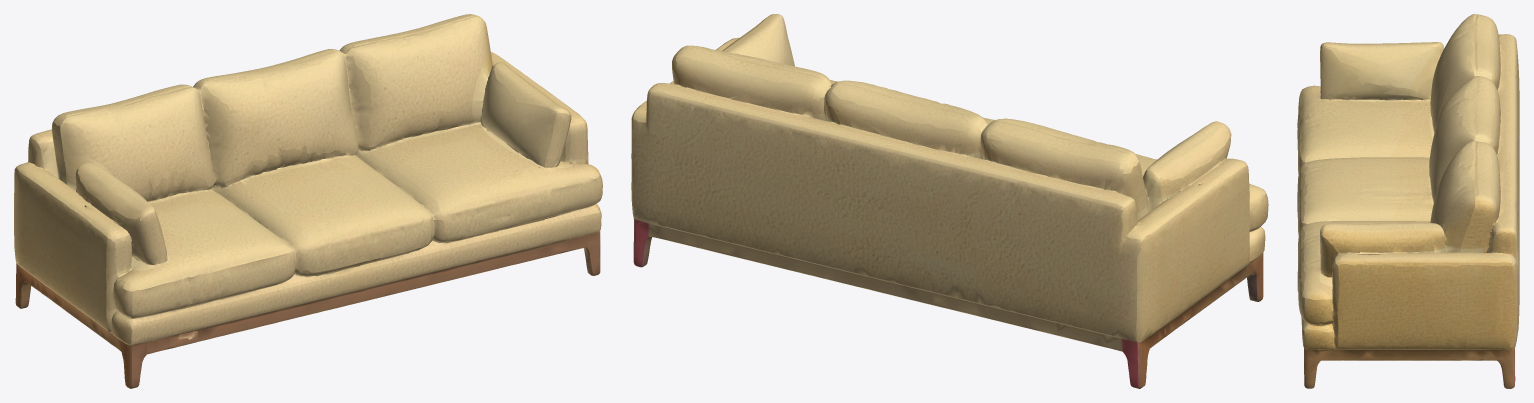
The model's file is L_SOFA_3.cyberpunk.glb.
3 renders of one model, left to right at view 1: azimuth 30°, elevation 25°; view 2: azimuth 150°, elevation 25°; view 3: azimuth 270°, elevation 25°, orthographic. The views are drawn at different scales.
Parts seen in each view (by area): view 1: geometry_0; view 2: geometry_0; view 3: geometry_0.
Part boxes in pixels (bbox=[...]): geometry_0: bbox=[14, 14, 602, 388]; geometry_0: bbox=[631, 14, 1268, 388]; geometry_0: bbox=[1297, 14, 1519, 388].
Bounding box in the file's own units: 2.2 × 0.8559 × 0.9566.
1 material, 1 textured.
